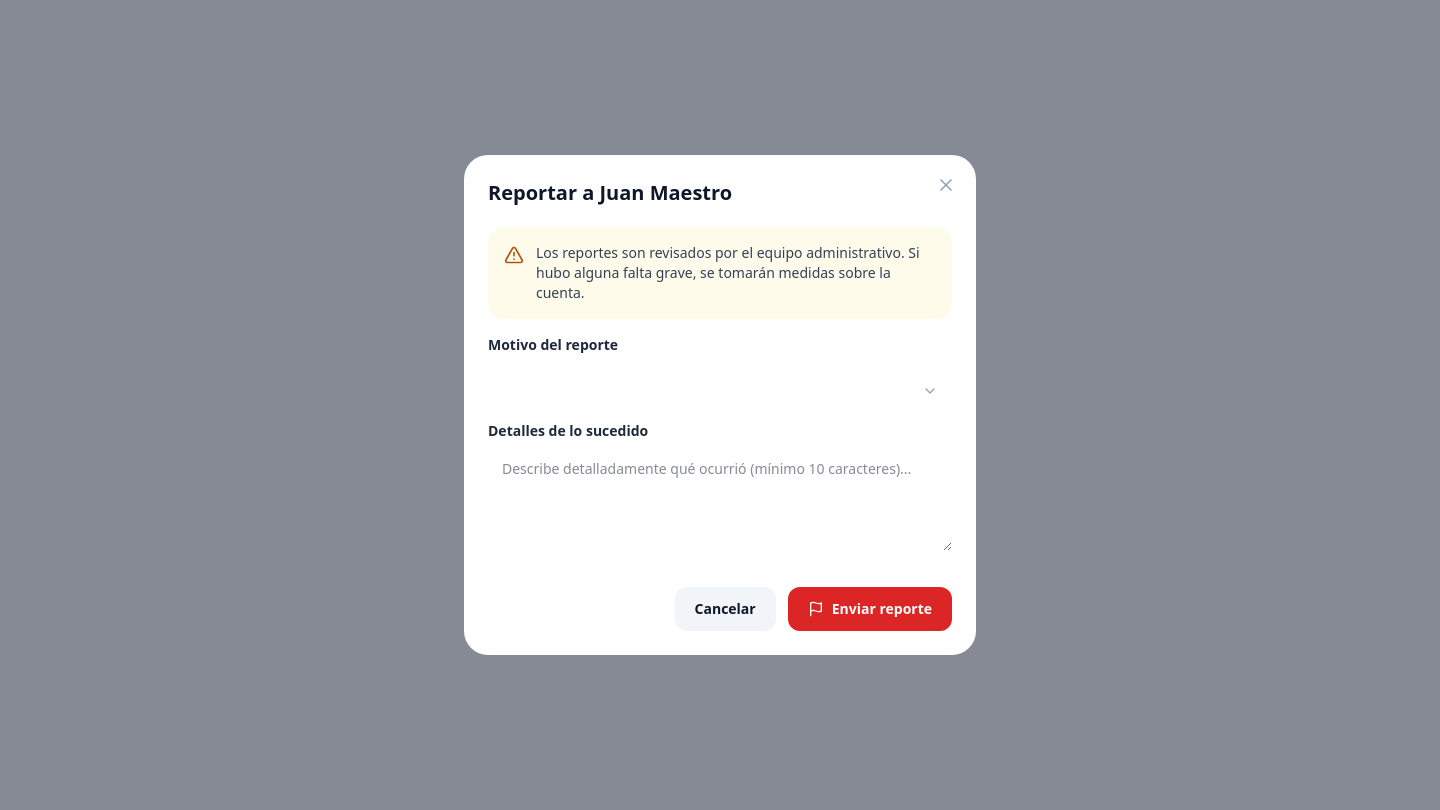
ReportUserModal (HU024) › validates reason and description length before submitting
Click the button "Enviar reporte" at (870, 609), box [788, 587, 952, 631]
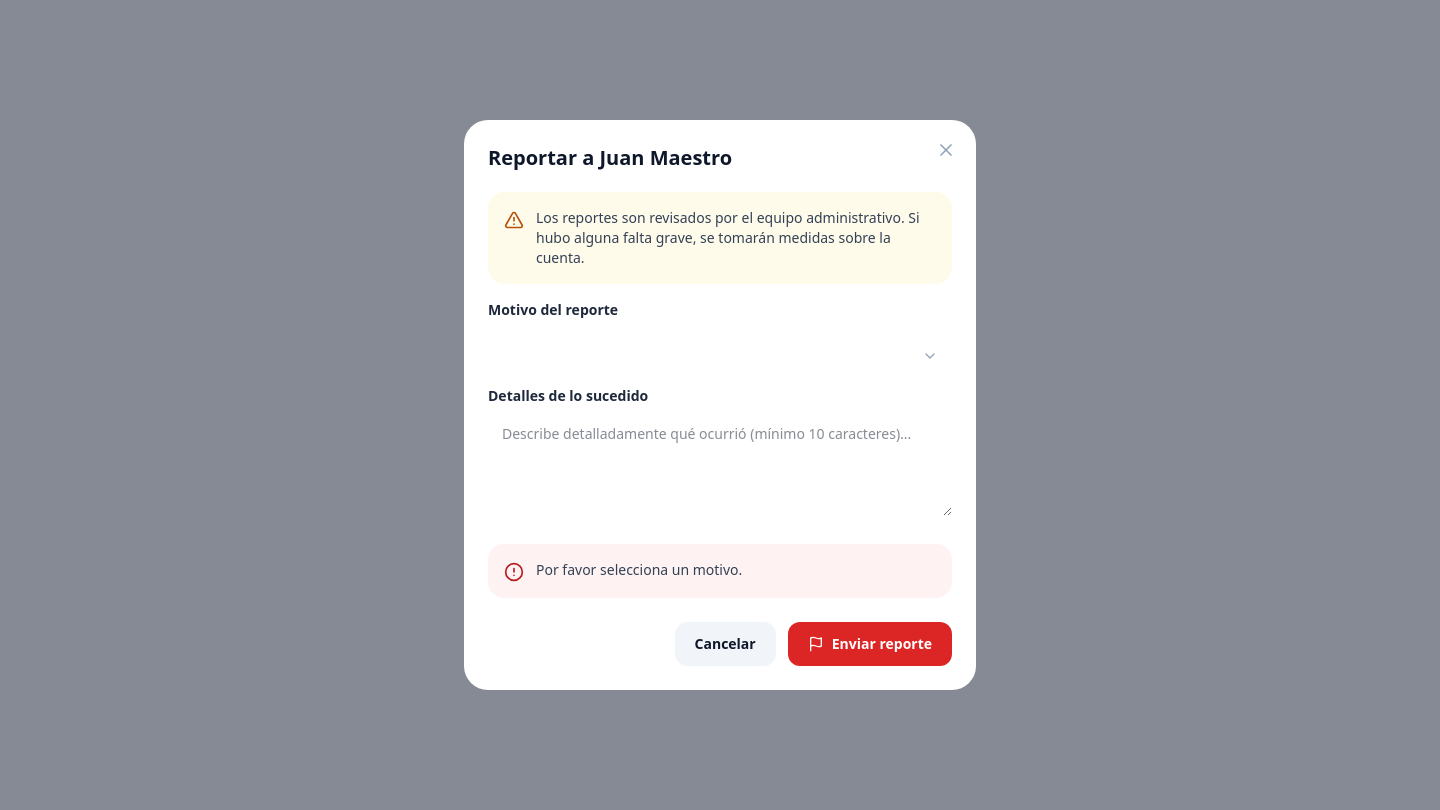
Expected: the text "Por favor selecciona un motivo." is shown, [536, 560, 742, 579]
